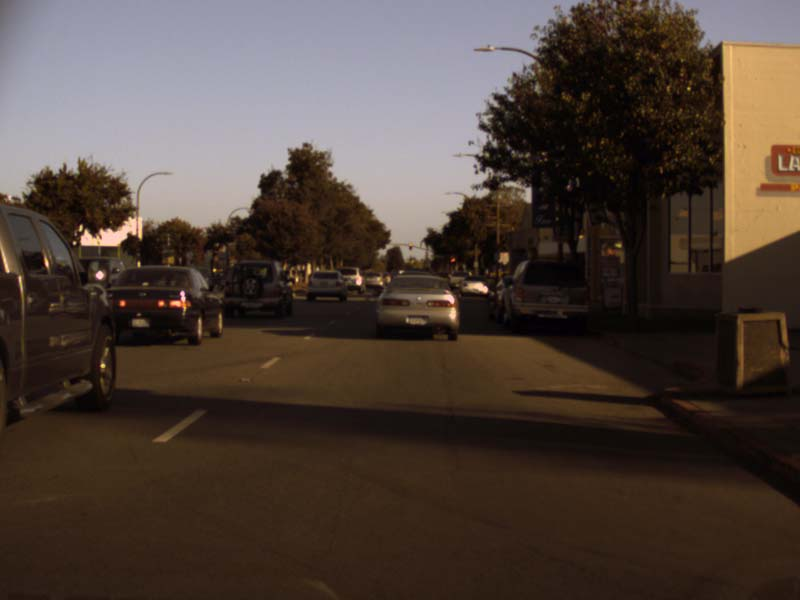Red: (408, 243, 411, 250)
